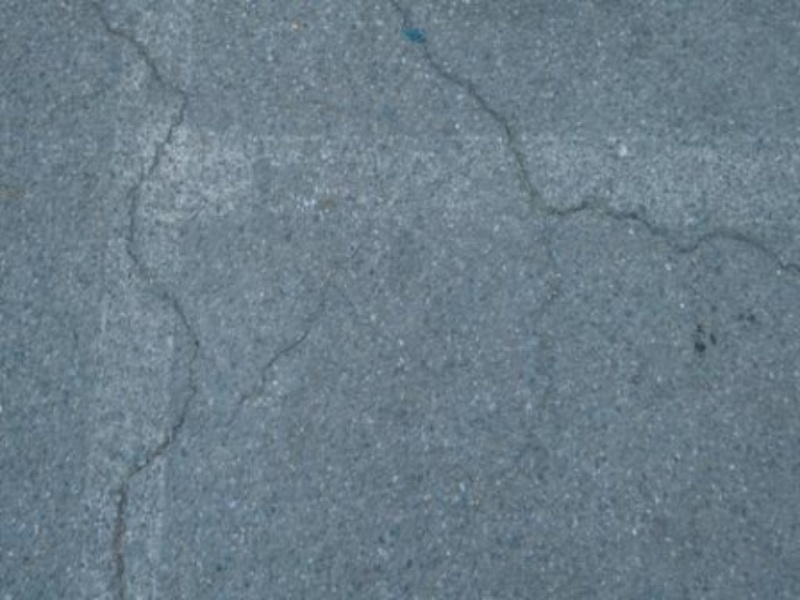crack: (391, 15, 793, 310), (69, 12, 209, 582)
